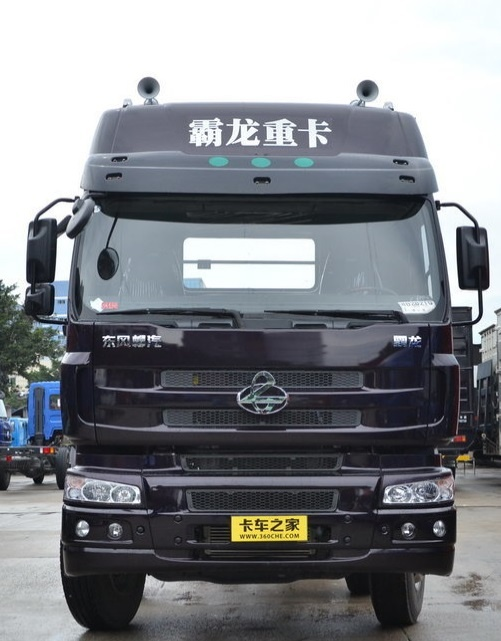heavy truck: (21, 79, 466, 622)
